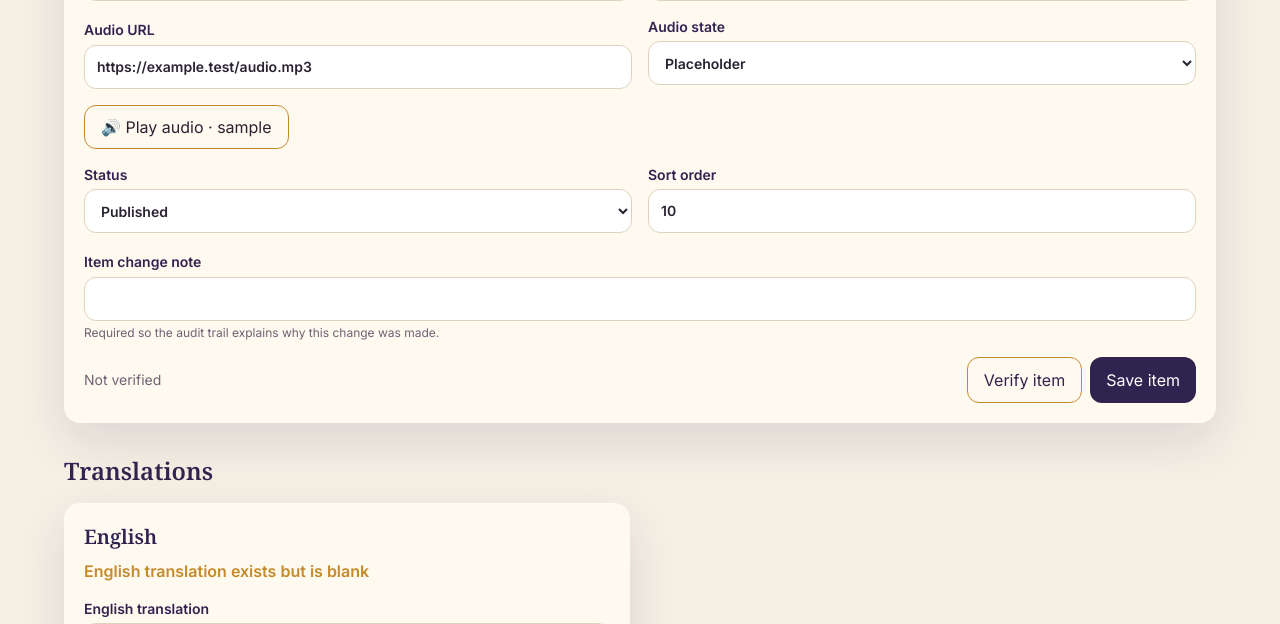
Test: AdminContentDetailRoute › uses the verification target to update the returned resource
(page scrolled)
Type "Review translation" into the field labelled "Item change note".
click(640, 299); type("Review translation")  # box [84,277,1196,321]
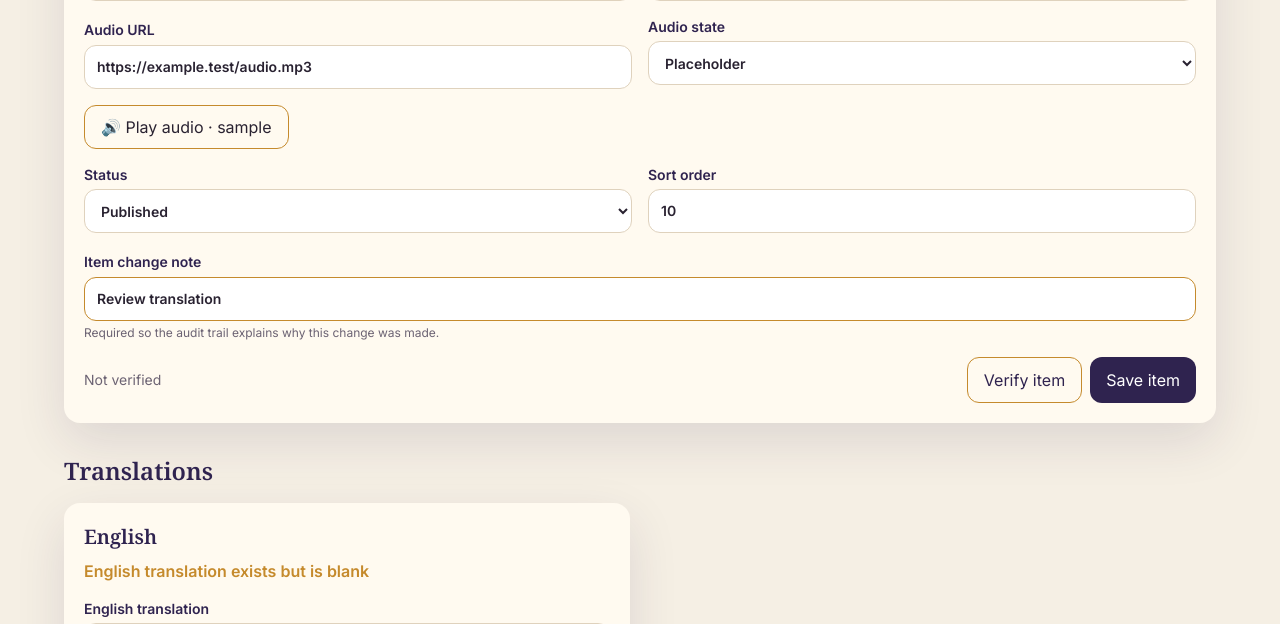
Click the button "Verify item".
click(1024, 380)  # box [967,357,1082,403]
(page scrolled)
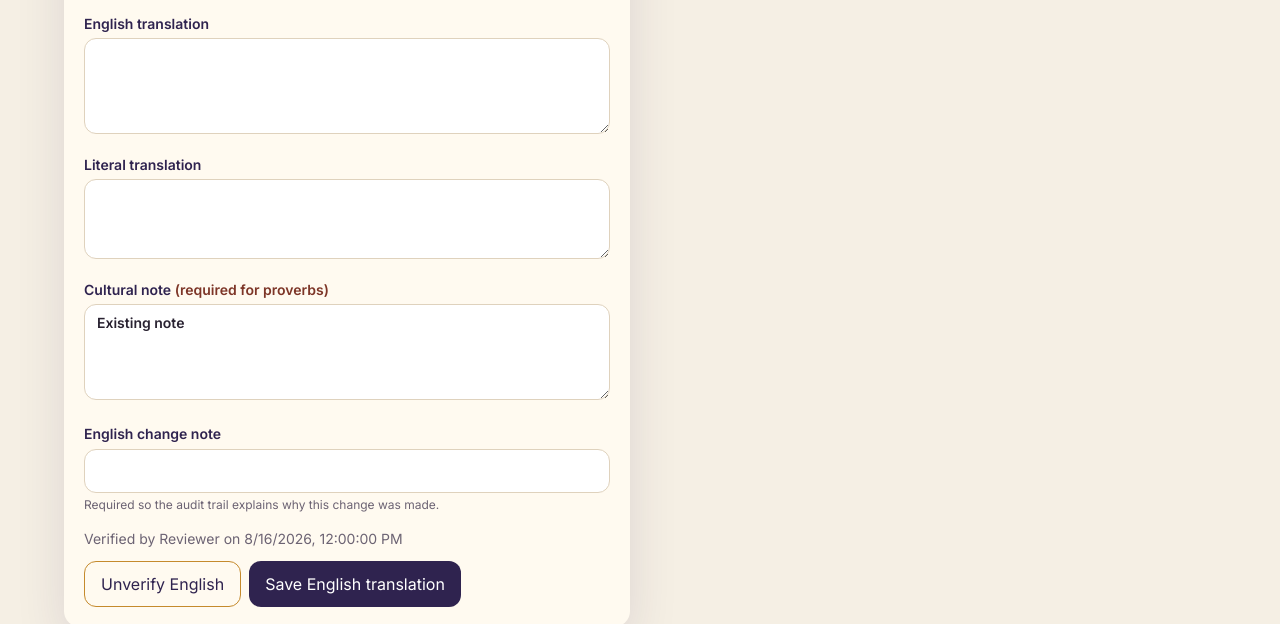
Check: the text "Verified by Reviewer on 8/16/2026, 12:00:00 PM" is shown, box [84,529,403,549]
